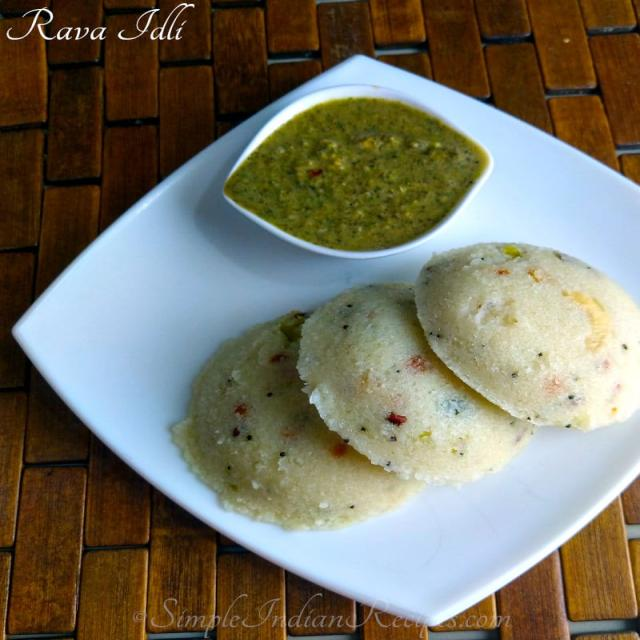rave idli: (171, 299, 408, 542), (294, 278, 534, 493), (421, 237, 640, 437)
